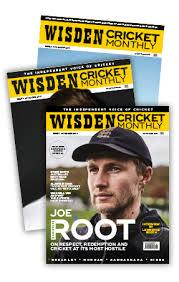Printing industry: (1, 8, 179, 282)
